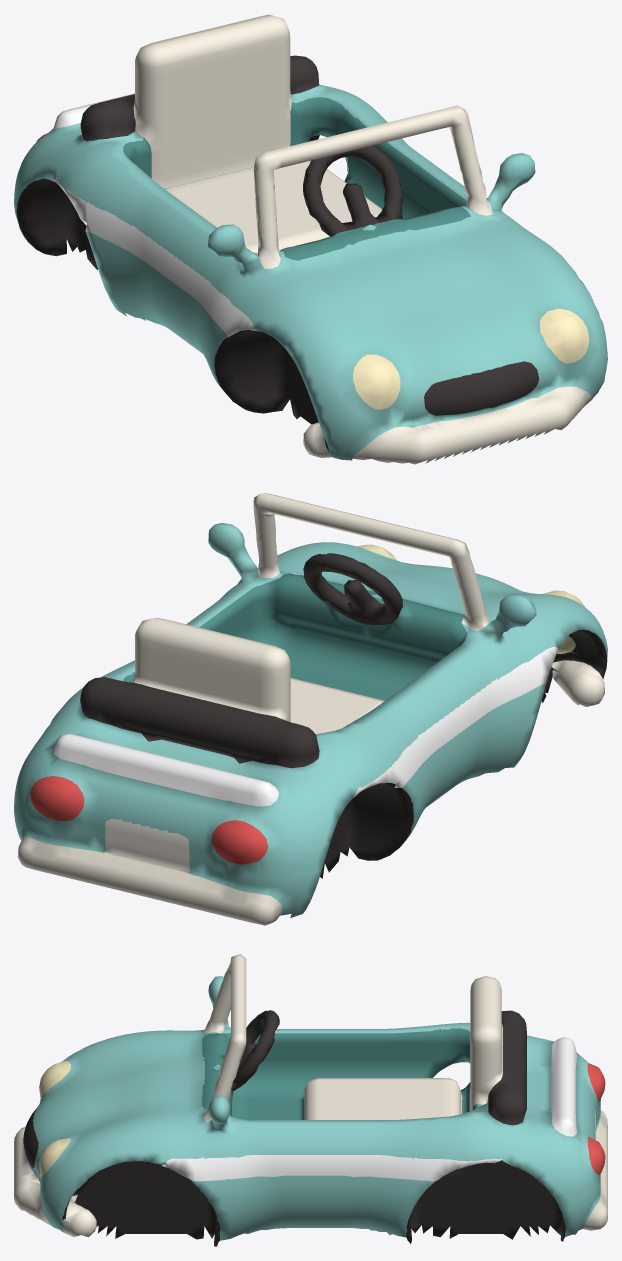
Rendered from kart-low.glb.
3 views of the same model, one above another, from view 1: azimuth 30°, elevation 25°; view 2: azimuth 150°, elevation 25°; view 3: azimuth 270°, elevation 25° (orthographic). The views are drawn at different scales.
Visible parts, largest first — view 1: kart; view 2: kart; view 3: kart.
Boxes of the visible parts, x1,y1,x2,y2 form: kart: (14,14,607,464); kart: (14,493,607,925); kart: (14,954,607,1246).
Bounding box in the file's own units: 2 × 1.47 × 3.79.
